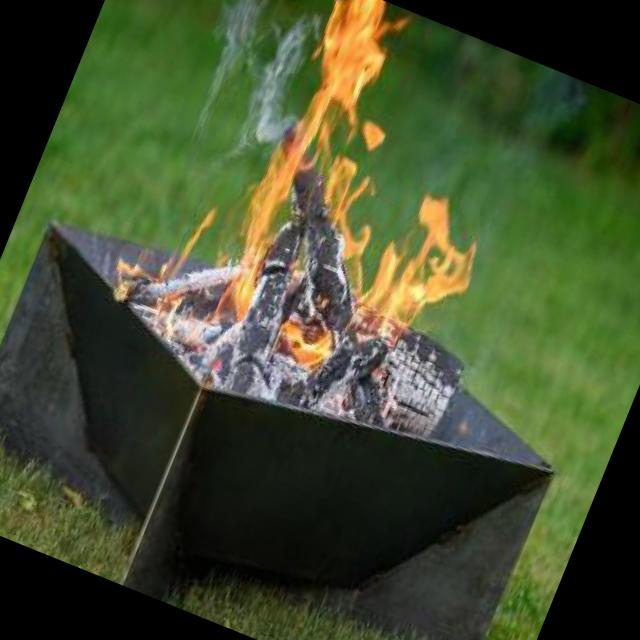fire: (192, 0, 556, 423)
smoke: (165, 0, 331, 178)
